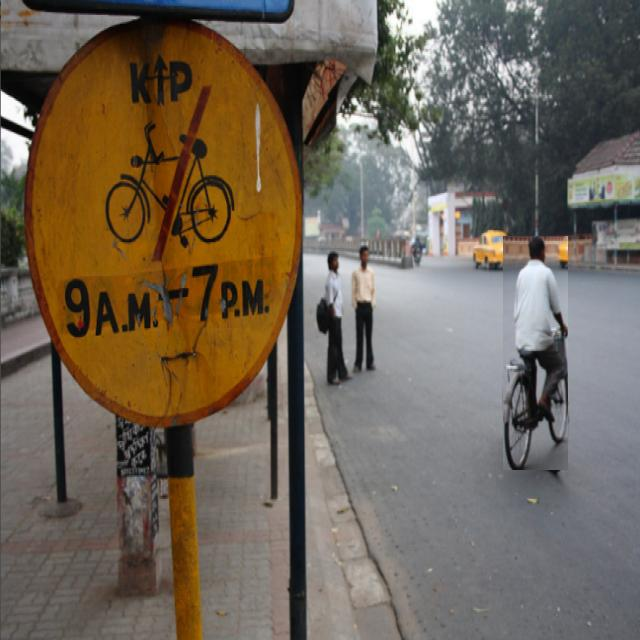bicycle: (504, 237, 568, 470)
